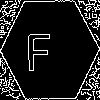F: (25, 25, 52, 71)
